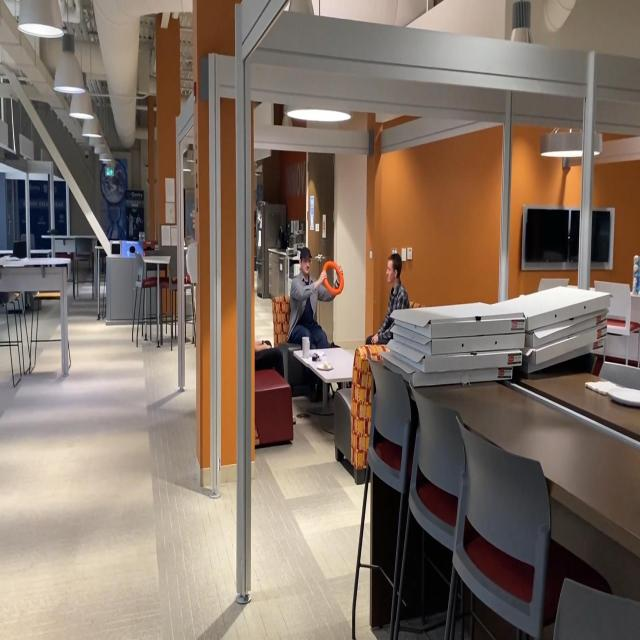note: (322, 258, 344, 294)
